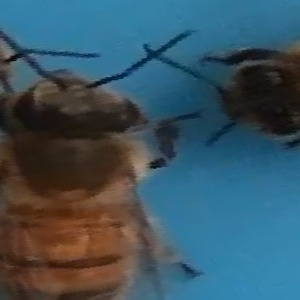bee: (3, 31, 195, 300)
